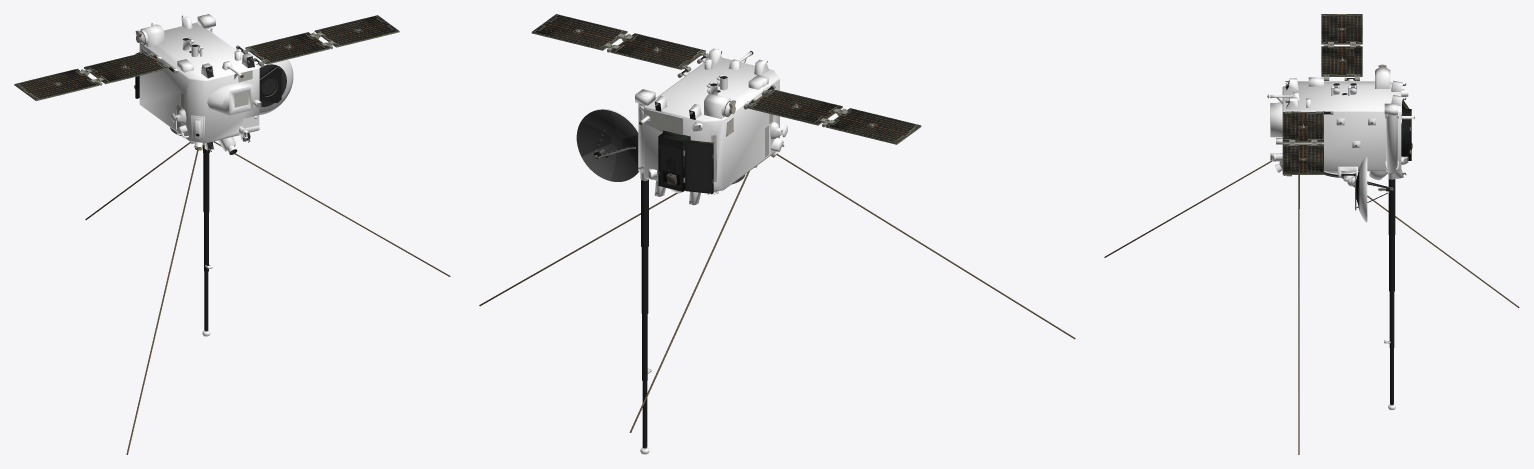
Rendered from stereo-ahead.glb.
The picture shows the model from 3 angles, left to right: view 1: azimuth 30°, elevation 25°; view 2: azimuth 150°, elevation 25°; view 3: azimuth 270°, elevation 25°; orthographic projection. The views are drawn at different scales.
Visible parts, largest first — view 1: StereoA, shiny_panel, tex_01, tex_black, AO_dark; view 2: StereoA, shiny_panel, tex_01, AO_dish, AO_dark, tex_black; view 3: StereoA, shiny_panel, tex_01, tex_black.
Boxes of the visible parts, box(x1,y1,x2,y2) form: StereoA: box(139, 14, 293, 336); shiny_panel: box(15, 15, 398, 99); tex_01: box(14, 15, 450, 454); tex_black: box(153, 38, 281, 330); AO_dark: box(259, 64, 286, 106); StereoA: box(591, 48, 787, 454); shiny_panel: box(532, 14, 920, 143); tex_01: box(479, 29, 1075, 432); AO_dish: box(576, 109, 638, 181); AO_dark: box(658, 136, 712, 193); tex_black: box(596, 56, 773, 448); StereoA: box(1268, 67, 1413, 410); shiny_panel: box(1282, 14, 1362, 173); tex_01: box(1104, 28, 1519, 454); tex_black: box(1291, 78, 1410, 404).
Size of the model in its own units: 8.02 by 5.89 by 7.11.
Materials: 7 (4 with a texture image).
